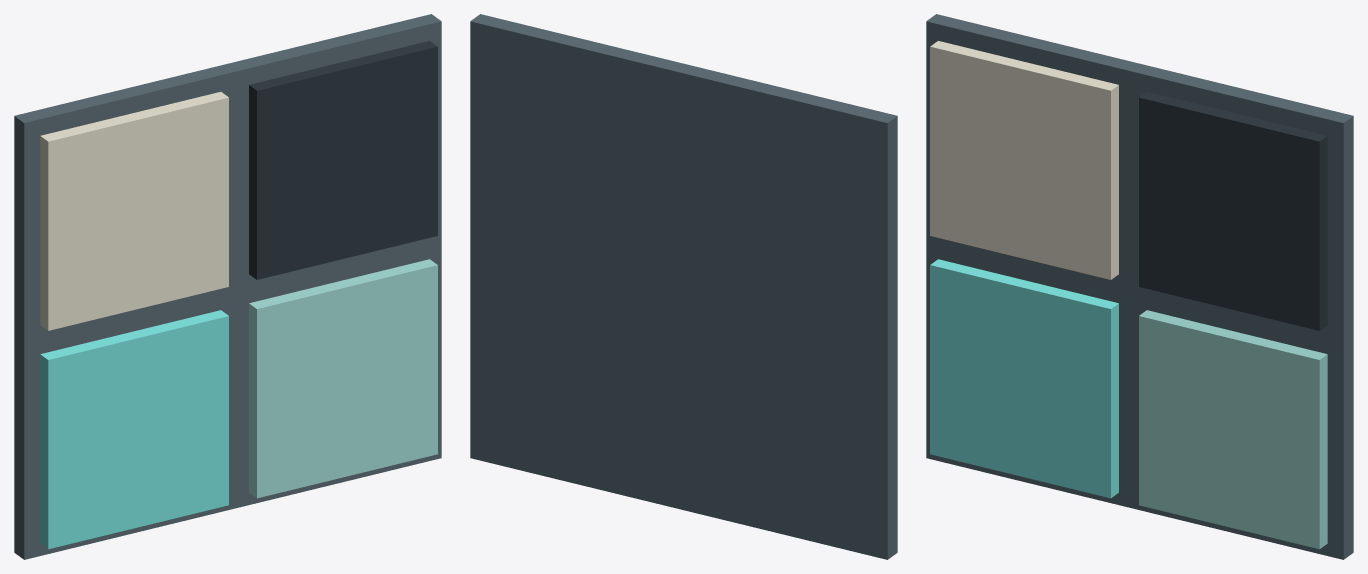
File: 06_texture_remaster_overlay_6.glb
3 renders of one model, left to right at view 1: azimuth 30°, elevation 25°; view 2: azimuth 150°, elevation 25°; view 3: azimuth 330°, elevation 25°, orthographic.
Parts seen in each view (by area): view 1: uv_reference_tile, atlas_quadrant_c, atlas_quadrant_d, atlas_quadrant_b, atlas_quadrant_a; view 2: uv_reference_tile; view 3: uv_reference_tile, atlas_quadrant_c, atlas_quadrant_d, atlas_quadrant_a, atlas_quadrant_b.
Part boxes in pixels (box(x1,y1,x2,y2)): uv_reference_tile: box(14, 14, 441, 559); atlas_quadrant_c: box(40, 92, 228, 330); atlas_quadrant_d: box(249, 41, 437, 279); atlas_quadrant_b: box(249, 259, 437, 498); atlas_quadrant_a: box(40, 310, 228, 549); uv_reference_tile: box(470, 14, 897, 559); uv_reference_tile: box(926, 14, 1353, 559); atlas_quadrant_c: box(930, 41, 1118, 279); atlas_quadrant_d: box(1139, 92, 1327, 330); atlas_quadrant_a: box(930, 259, 1118, 498); atlas_quadrant_b: box(1139, 310, 1327, 549).
Size of the model in its own units: 1.2 by 1.2 by 0.1.
